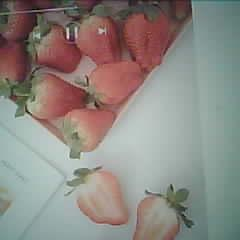straw-ripe: (125, 9, 167, 69), (29, 74, 87, 117), (34, 24, 81, 72), (89, 60, 141, 103), (65, 108, 111, 152), (78, 16, 122, 62)
